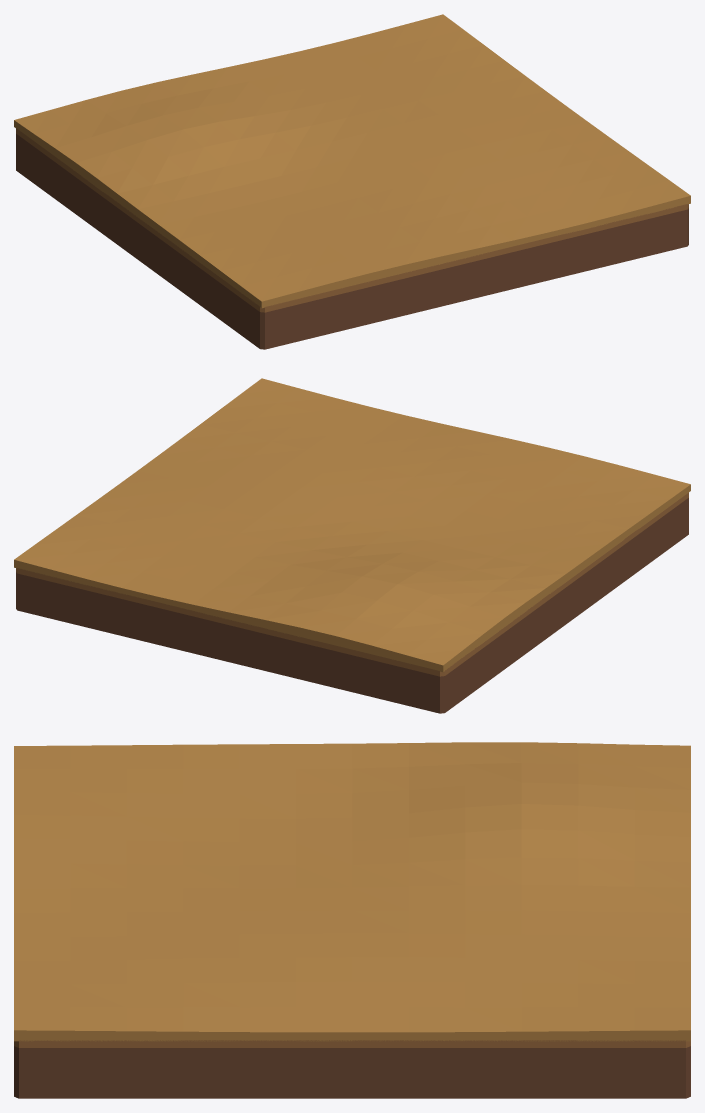
3 renders of one model, top to bottom at view 1: azimuth 30°, elevation 25°; view 2: azimuth 150°, elevation 25°; view 3: azimuth 270°, elevation 25°, orthographic. The views are drawn at different scales.
Visible parts, largest first — view 1: B04_秋土浅坡; view 2: B04_秋土浅坡; view 3: B04_秋土浅坡.
Boxes of the visible parts, x1=… form: B04_秋土浅坡: x1=14, y1=14, x2=690, y2=349; B04_秋土浅坡: x1=14, y1=378, x2=690, y2=713; B04_秋土浅坡: x1=14, y1=742, x2=690, y2=1098.
Size of the model in its own units: 8 by 1.05 by 8.
